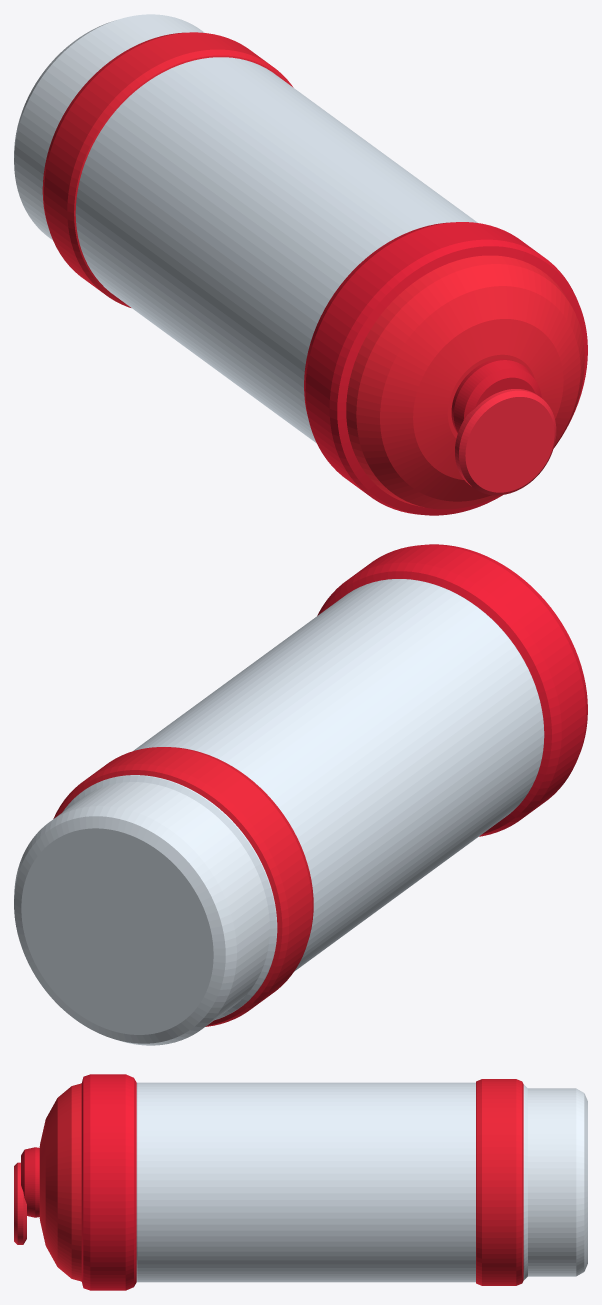
File: coqueteleira-hero.glb
The picture shows the model from 3 angles, top to bottom: view 1: azimuth 30°, elevation 25°; view 2: azimuth 150°, elevation 25°; view 3: azimuth 270°, elevation 25°; orthographic projection. The views are drawn at different scales.
Parts seen in each view (by area): view 1: Corpo transparente, Tampa superior vermelha, Base da tampa vermelha, Anel vermelho, Compartimento inferior transparente, Tampa articulada, Bocal fechado; view 2: Corpo transparente, Compartimento inferior transparente, Base da tampa vermelha, Anel vermelho; view 3: Corpo transparente, Base da tampa vermelha, Compartimento inferior transparente, Anel vermelho, Tampa superior vermelha, Bocal fechado, Tampa articulada.
Boxes of the visible parts, bbox=[...] form: Corpo transparente: bbox=[75, 57, 477, 443]; Tampa superior vermelha: bbox=[346, 255, 584, 509]; Base da tampa vermelha: bbox=[304, 222, 587, 515]; Anel vermelho: bbox=[42, 32, 293, 307]; Compartimento inferior transparente: bbox=[14, 14, 204, 239]; Tampa articulada: bbox=[455, 389, 556, 495]; Bocal fechado: bbox=[451, 358, 541, 433]; Corpo transparente: bbox=[62, 579, 544, 1020]; Compartimento inferior transparente: bbox=[14, 782, 269, 1045]; Base da tampa vermelha: bbox=[317, 544, 587, 836]; Anel vermelho: bbox=[53, 747, 313, 1026]; Corpo transparente: bbox=[136, 1082, 527, 1282]; Base da tampa vermelha: bbox=[81, 1074, 136, 1290]; Compartimento inferior transparente: bbox=[528, 1088, 587, 1276]; Anel vermelho: bbox=[476, 1079, 523, 1285]; Tampa superior vermelha: bbox=[39, 1083, 81, 1281]; Bocal fechado: bbox=[21, 1147, 39, 1217]; Tampa articulada: bbox=[14, 1162, 26, 1244].
Bounding box in the file's own units: 1.84 × 1.84 × 4.88.
